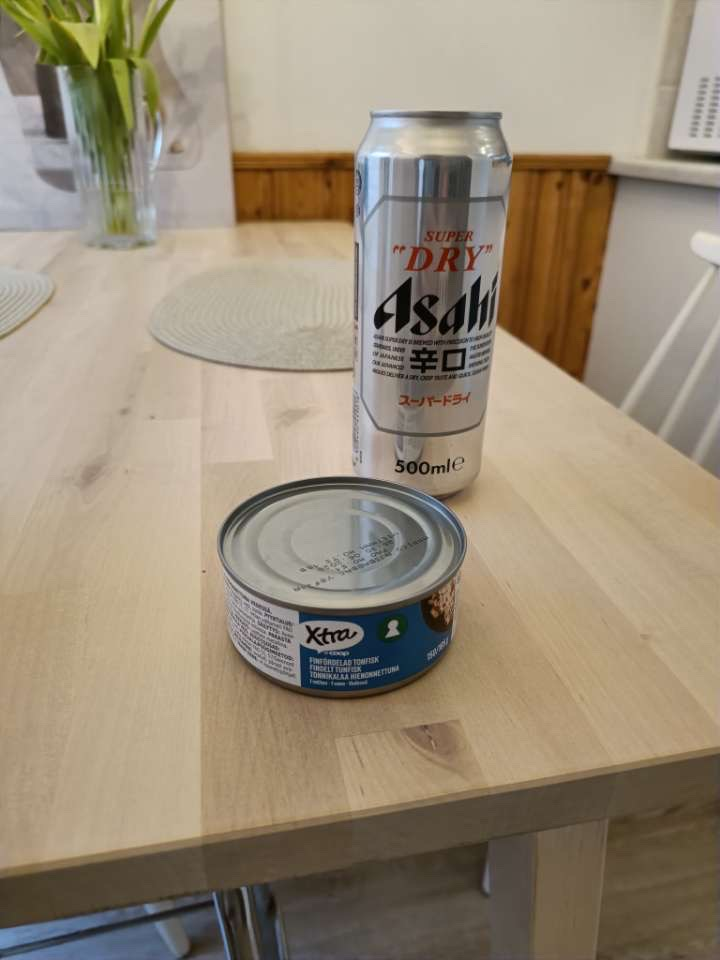Konservburk: (215, 477, 470, 697)
Pantburk: (348, 93, 512, 497)
